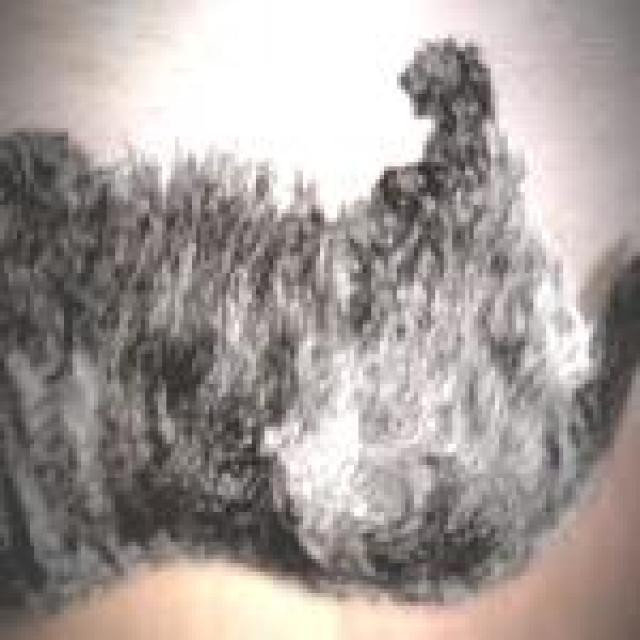fungal infection: (270, 407, 383, 523)
